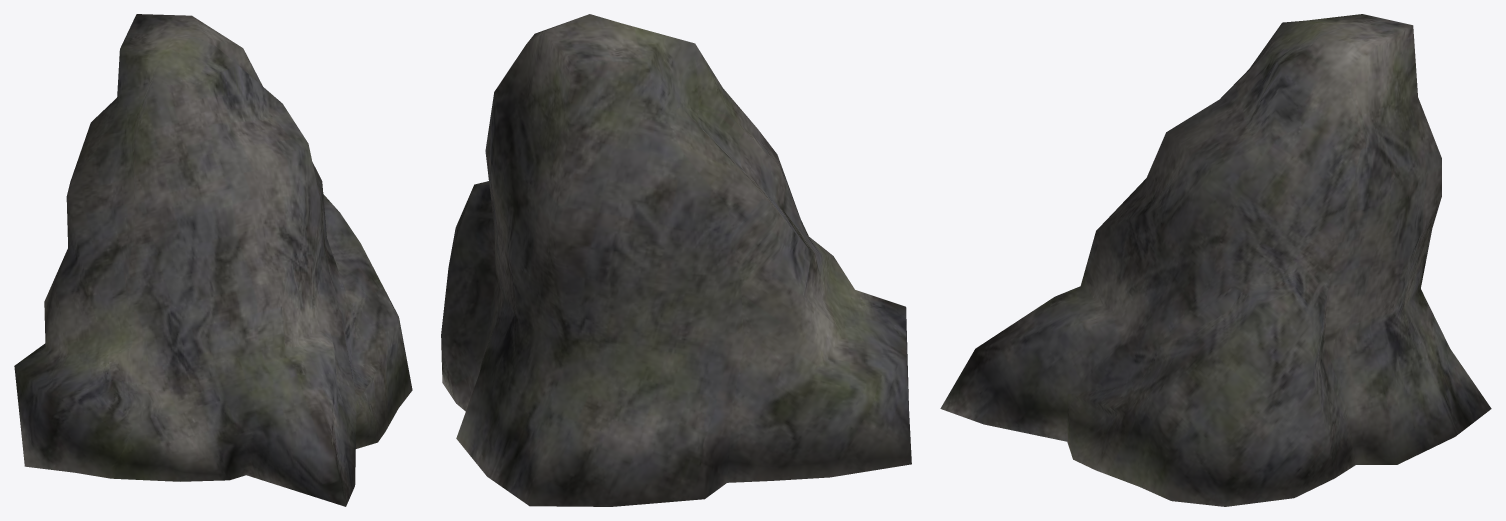
The model's file is big_stone_v2.glb.
The picture shows the model from 3 angles, left to right: view 1: azimuth 30°, elevation 25°; view 2: azimuth 150°, elevation 25°; view 3: azimuth 270°, elevation 25°; orthographic projection. The views are drawn at different scales.
Parts seen in each view (by area): view 1: Cube; view 2: Cube; view 3: Cube.
Part boxes in pixels (x1,y1,x2,y2): Cube: [14, 14, 412, 506]; Cube: [441, 14, 911, 506]; Cube: [940, 14, 1491, 506].
Bounding box in the file's own units: 142 × 128 × 164.
1 material, 1 textured.
